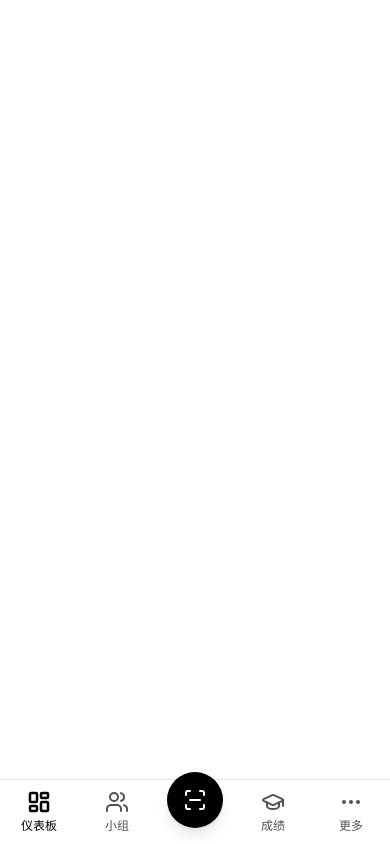
Scenario: BottomNav › 学生端面板：仅问答/排行榜/失物招领 + 账号操作
What coordinates should you click on to do the following:
click the button "更多"
I would click on:
 (351, 812)
Its box is [312, 780, 389, 843].
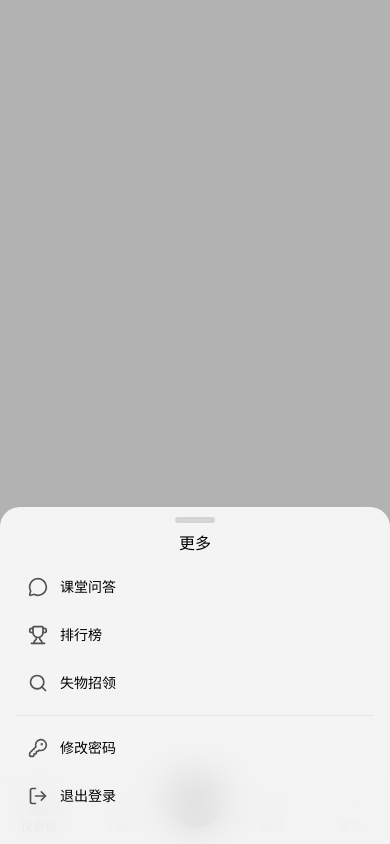
Check: the dialog shows "课堂问答", box [16, 563, 374, 611]
Check: the dialog shows "排行榜", box [16, 611, 374, 659]
Check: the dialog shows "失物招领", box [16, 659, 374, 707]
